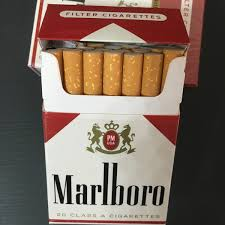marlboro: (49, 57, 172, 224)
